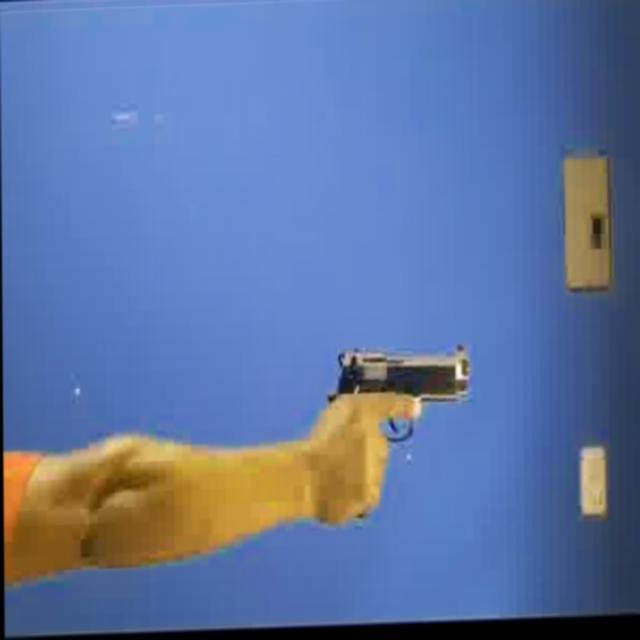weapon: (321, 344, 474, 453)
